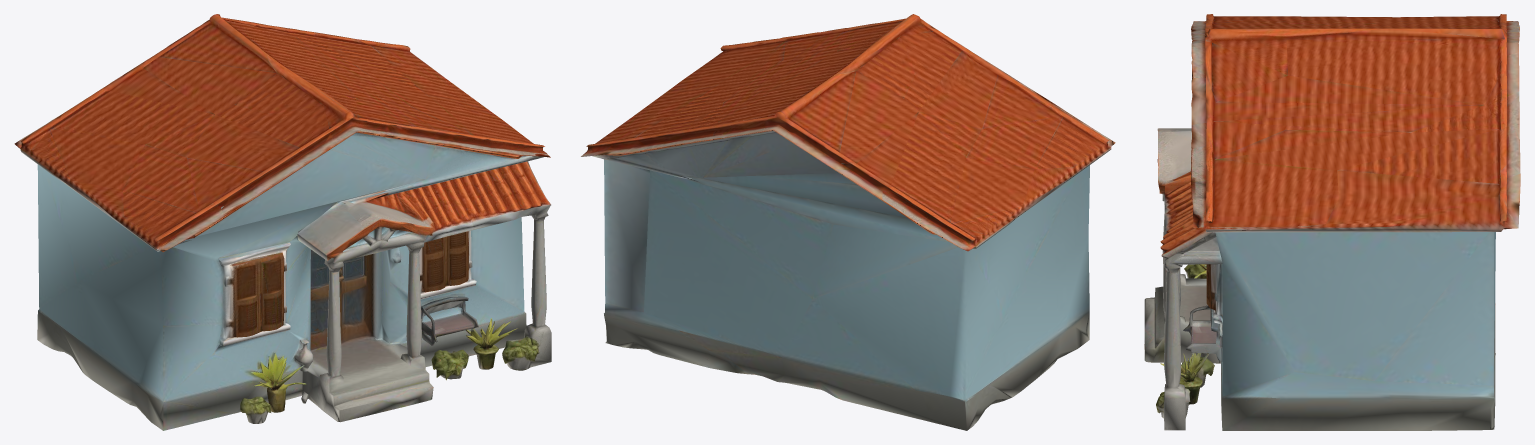
File: island_cottage.glb
The picture shows the model from 3 angles, left to right: view 1: azimuth 30°, elevation 25°; view 2: azimuth 150°, elevation 25°; view 3: azimuth 270°, elevation 25°; orthographic projection. The views are drawn at different scales.
Size of the model in its own units: 1.9 by 1.3 by 1.45.
Materials: 1 (1 with a texture image).
